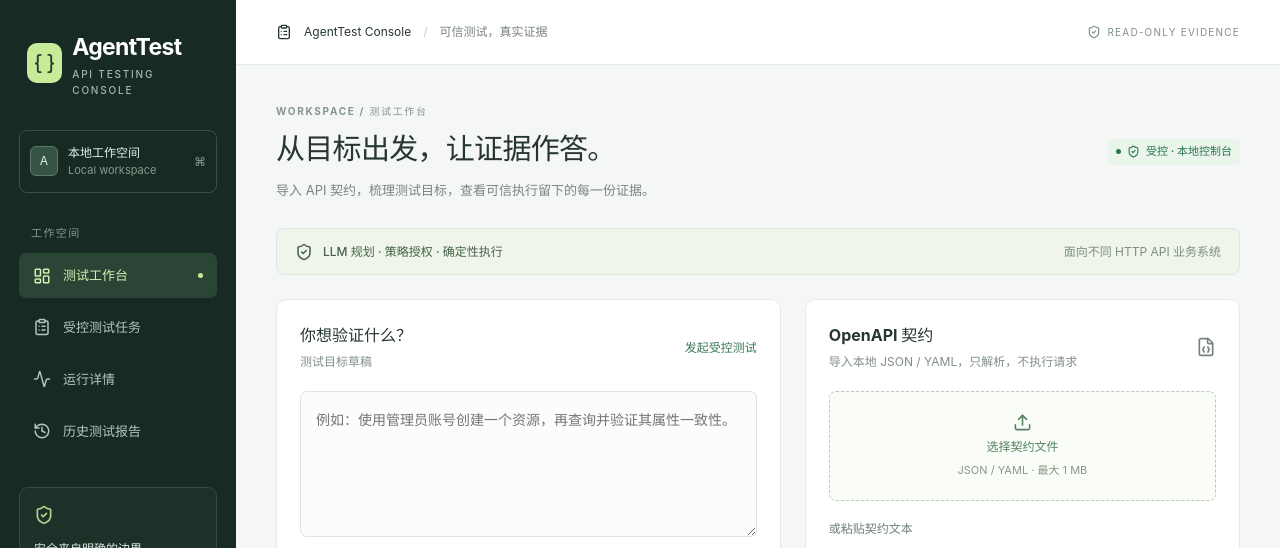
Test: workbench has no execute button and draft does not write browser storage
Type "验证资源属性" into the text box named "自然语言测试目标" at {"x": 528, "y": 464}, box top-left (300, 391), bottom-right (757, 537)
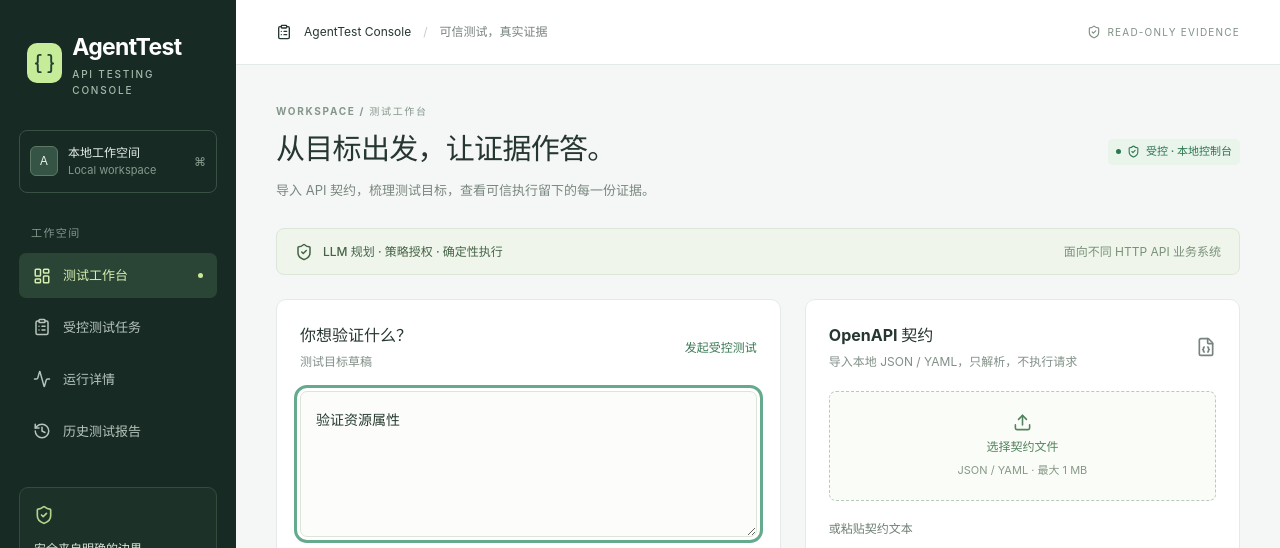
Click the link "历史测试报告" at {"x": 87, "y": 431}, box top-left (33, 422), bottom-right (141, 440)
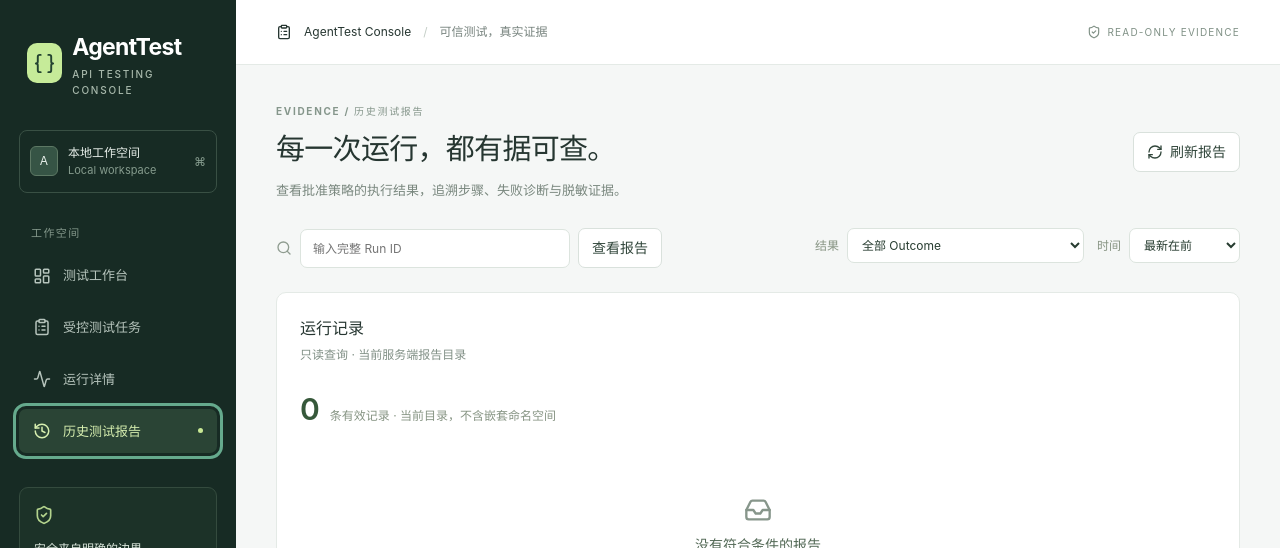
Click the link "测试工作台" at {"x": 80, "y": 276}, box top-left (33, 267), bottom-right (128, 285)
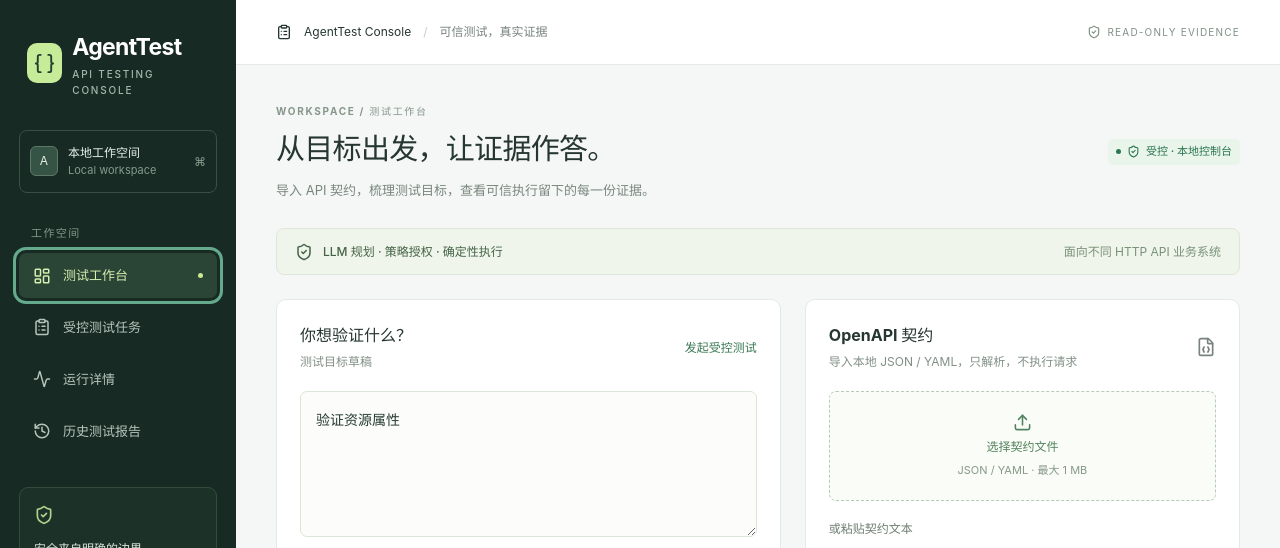
Now the text box named "自然语言测试目标" holds "验证资源属性", box top-left (300, 391), bottom-right (757, 537)
